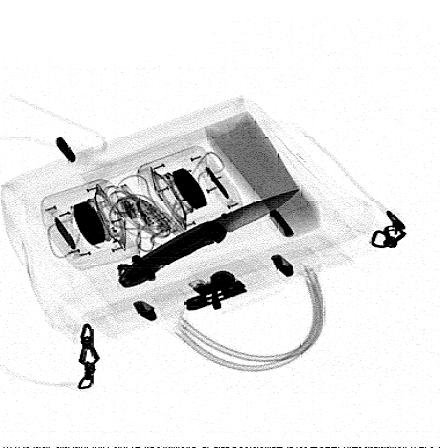Knife: (117, 187, 302, 290)
